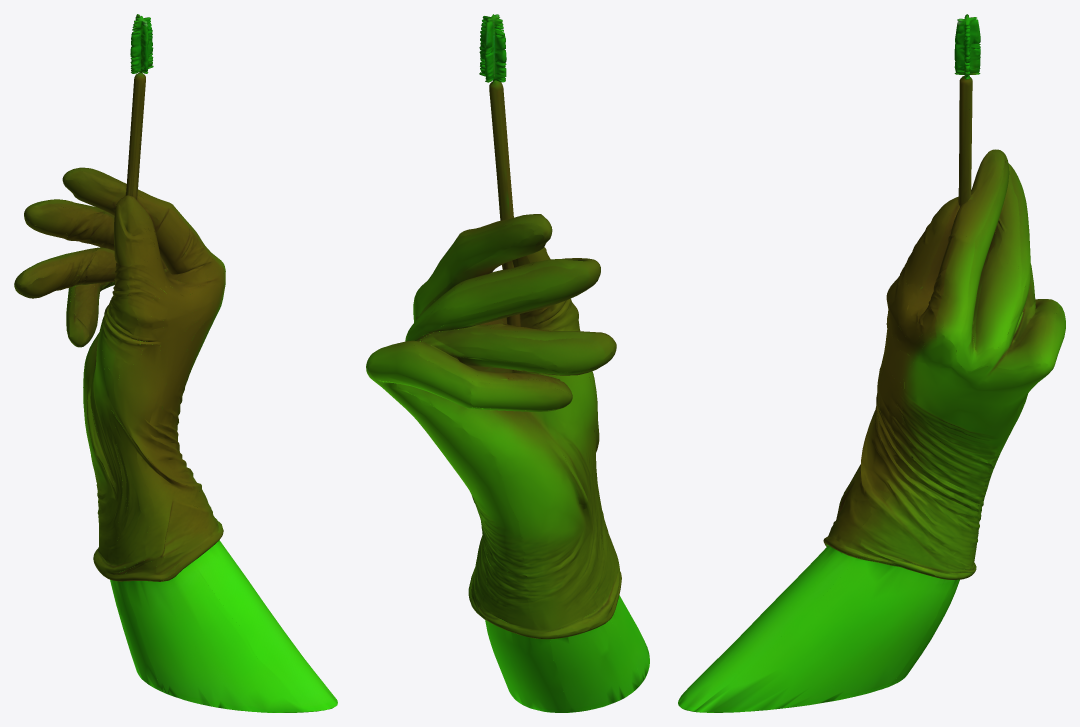
File: PlayerHand.glb
3 renders of one model, left to right at view 1: azimuth 30°, elevation 25°; view 2: azimuth 150°, elevation 25°; view 3: azimuth 270°, elevation 25°, orthographic. The views are drawn at different scales.
Visible parts, largest first — view 1: node_0; view 2: node_0; view 3: node_0.
Boxes of the visible parts, x1=… form: node_0: x1=14, y1=14, x2=337, y2=712; node_0: x1=366, y1=14, x2=649, y2=712; node_0: x1=678, y1=14, x2=1065, y2=712.
Size of the model in its own units: 0.332 by 1.03 by 0.5486.
1 material, 1 textured.
